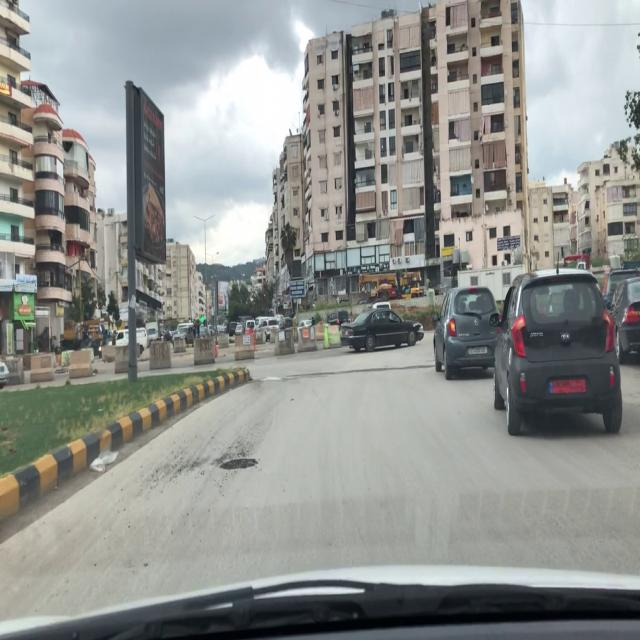Pothole: (217, 455, 262, 474)
